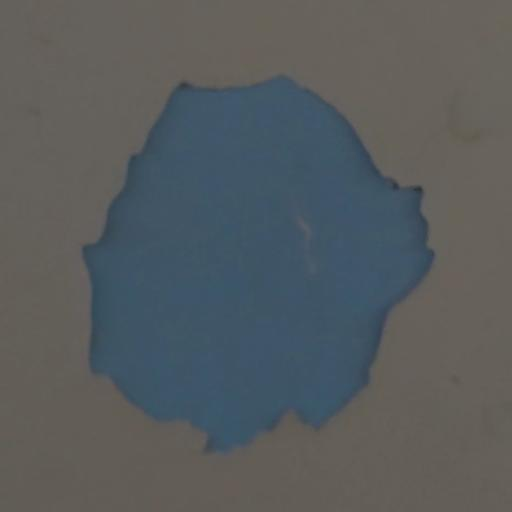peeling: (73, 66, 446, 463)
